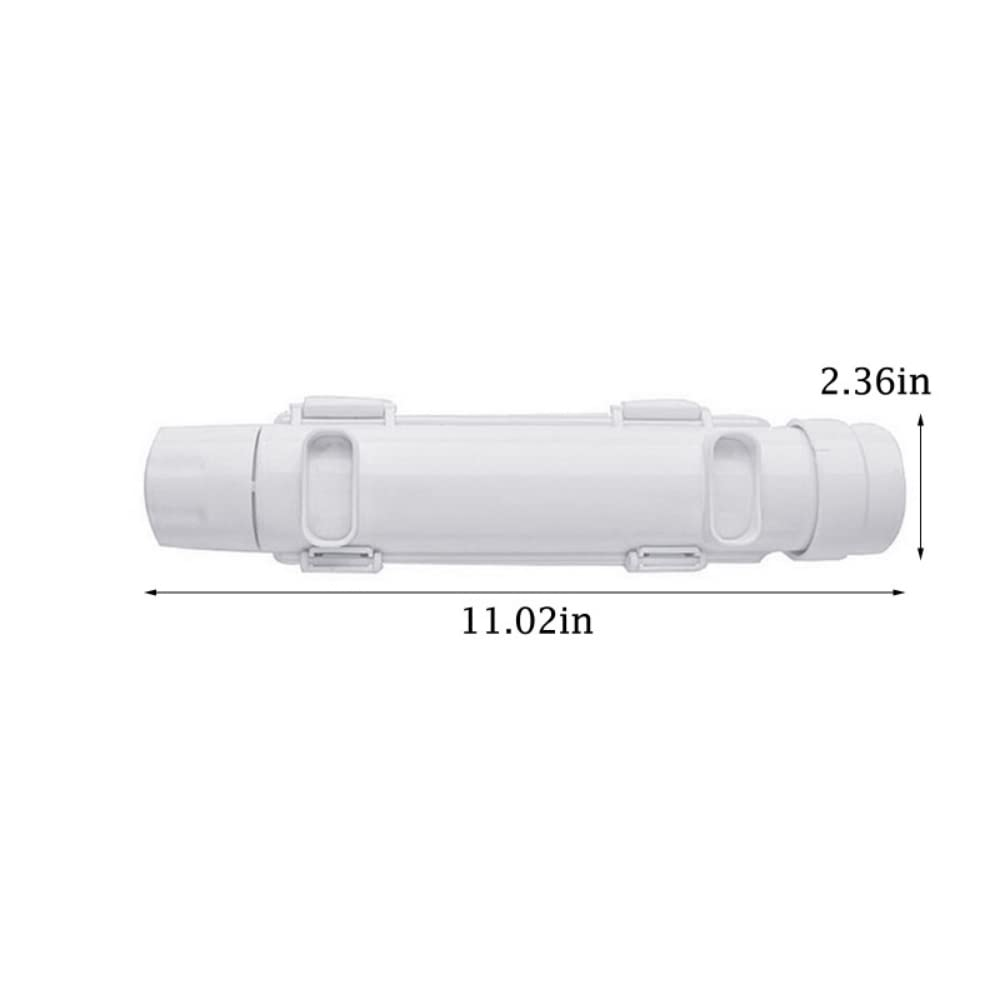11.02in: (463, 606, 594, 635)
